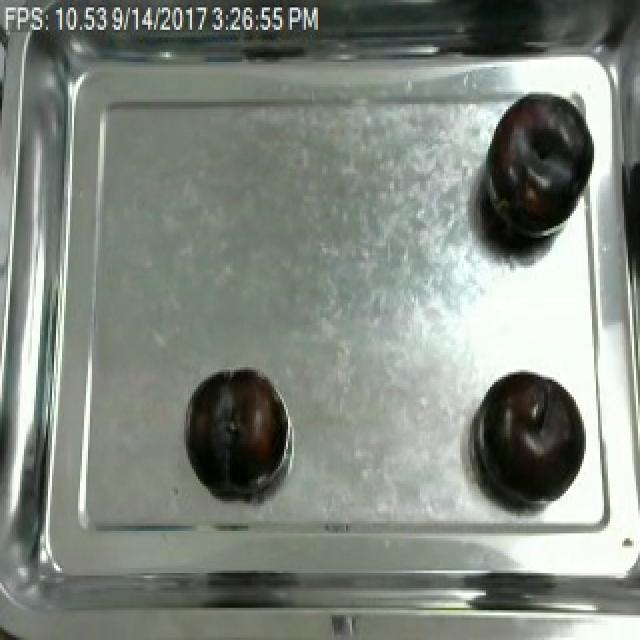Fruit: (476, 84, 598, 253), (472, 367, 582, 506), (182, 365, 286, 491)
